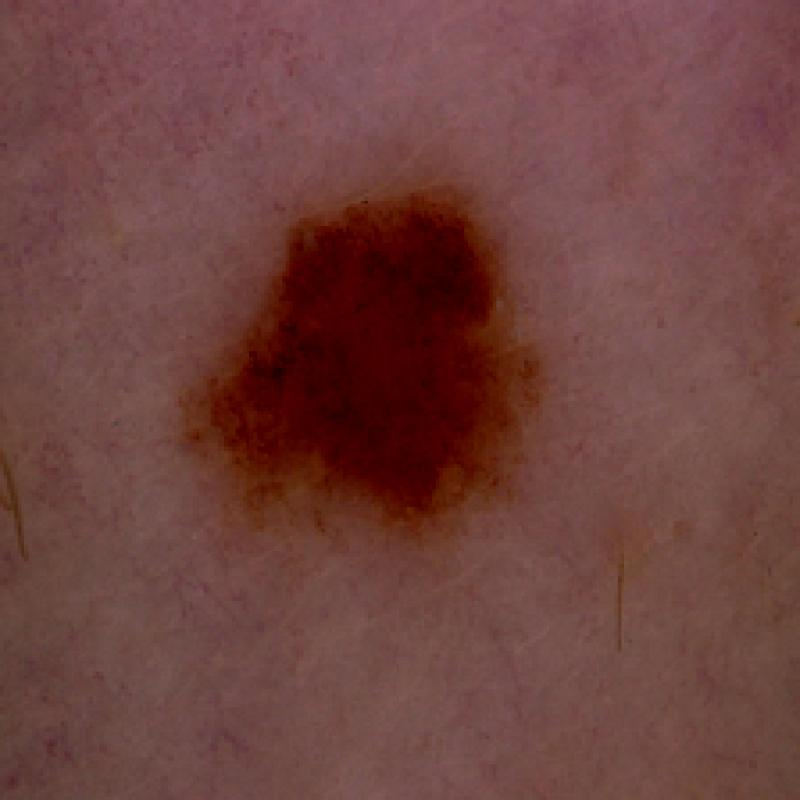benign: (168, 159, 552, 557)
